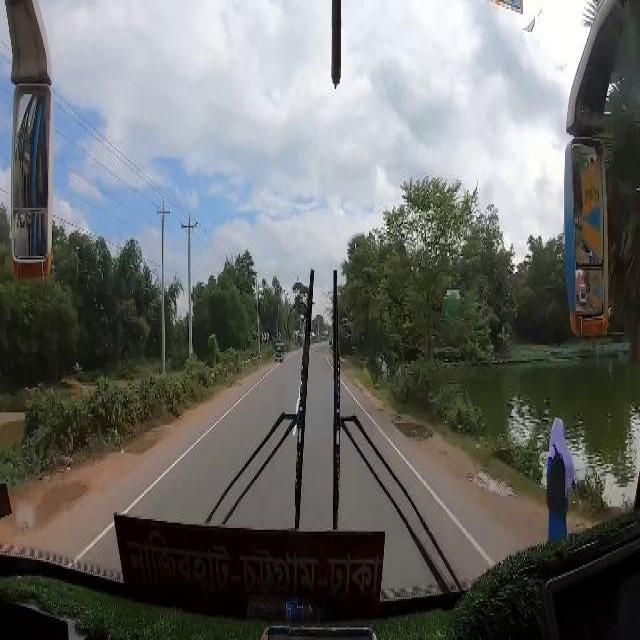vehicle: (276, 341, 285, 361)
